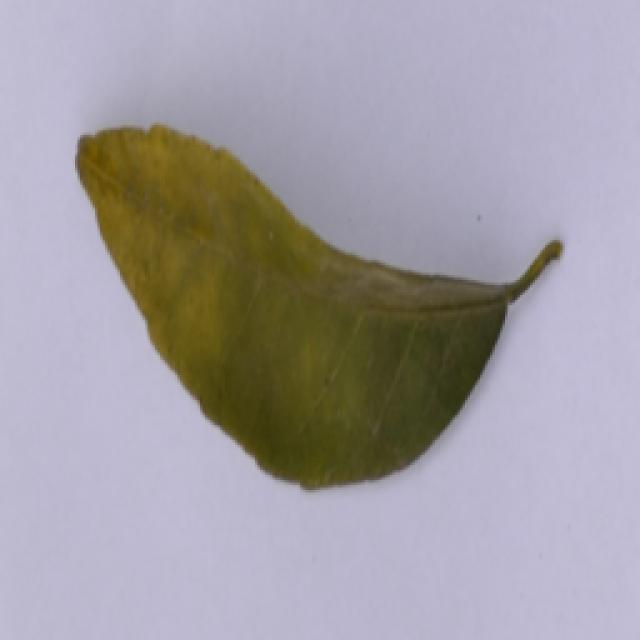greening: (61, 110, 570, 500)
